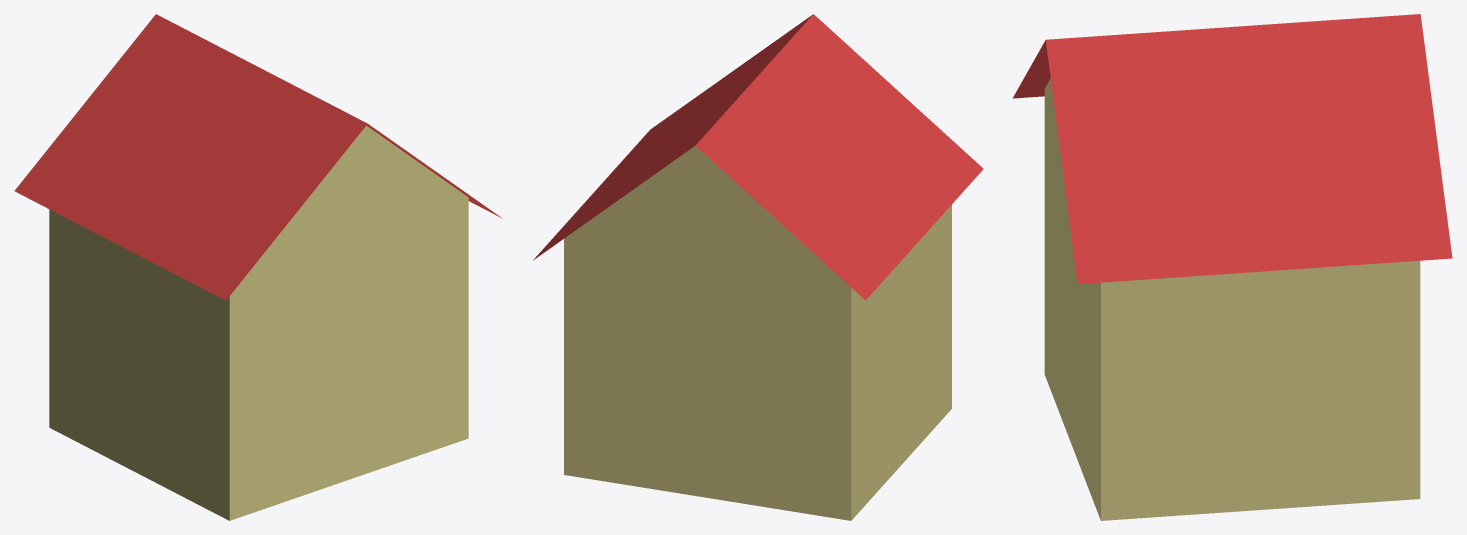
The picture shows the model from 3 angles, left to right: view 1: azimuth 30°, elevation 25°; view 2: azimuth 150°, elevation 25°; view 3: azimuth 270°, elevation 25°; orthographic projection. The views are drawn at different scales.
Size of the model in its own units: 12.29 by 11.7 by 12.09.
